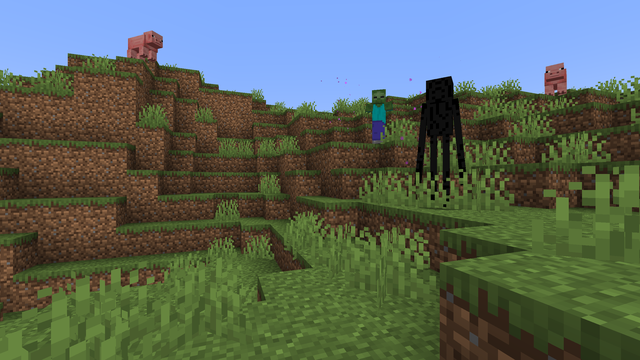cochons: (535, 67, 575, 95), (127, 32, 156, 65)
endermens: (419, 71, 460, 209)
zombies: (368, 89, 390, 144)
